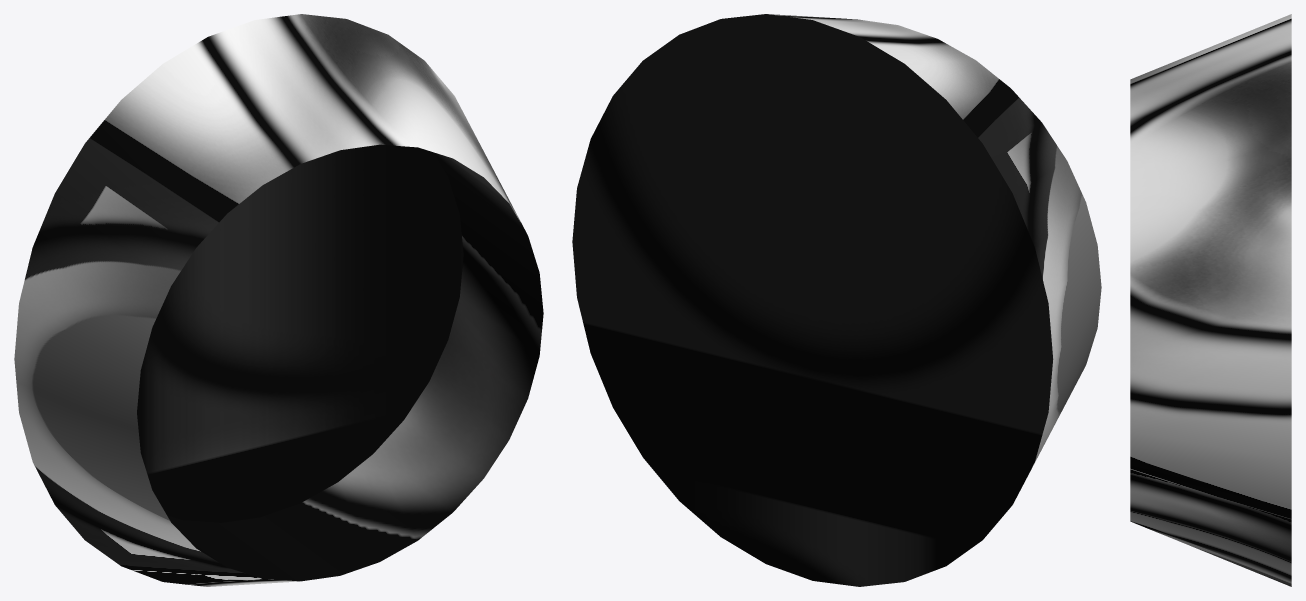
Rendered from FretBase.glb.
3 views of the same model, side by side, from view 1: azimuth 30°, elevation 25°; view 2: azimuth 150°, elevation 25°; view 3: azimuth 270°, elevation 25° (orthographic). The views are drawn at different scales.
Parts seen in each view (by area): view 1: FretBase; view 2: FretBase; view 3: FretBase.
Boxes of the visible parts, x1,y1,x2,y2 form: FretBase: (14,14,543,586); FretBase: (572,14,1101,586); FretBase: (1130,14,1291,586).
Size of the model in its own units: 2.36 by 2.64 by 0.7279.
1 material, 1 textured.
